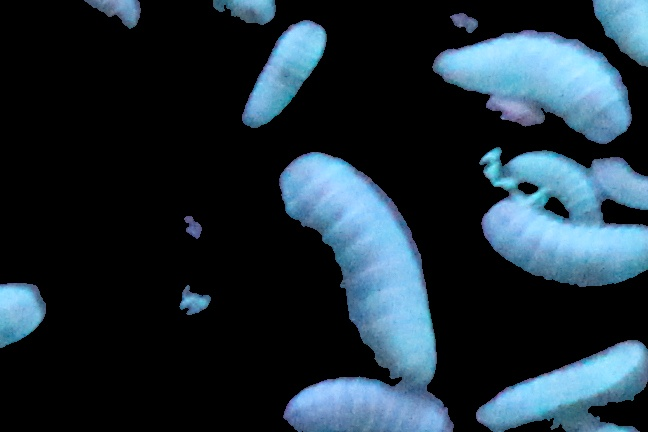larvae: (280, 154, 439, 379), (433, 33, 634, 145), (470, 336, 645, 432), (481, 193, 648, 293), (243, 23, 327, 132), (282, 378, 450, 432), (509, 150, 602, 220), (582, 1, 648, 70), (1, 278, 50, 352)
